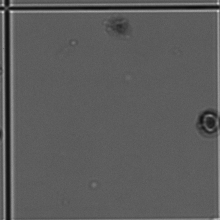Dead Cell: (189, 104, 217, 145), (104, 14, 137, 45)
